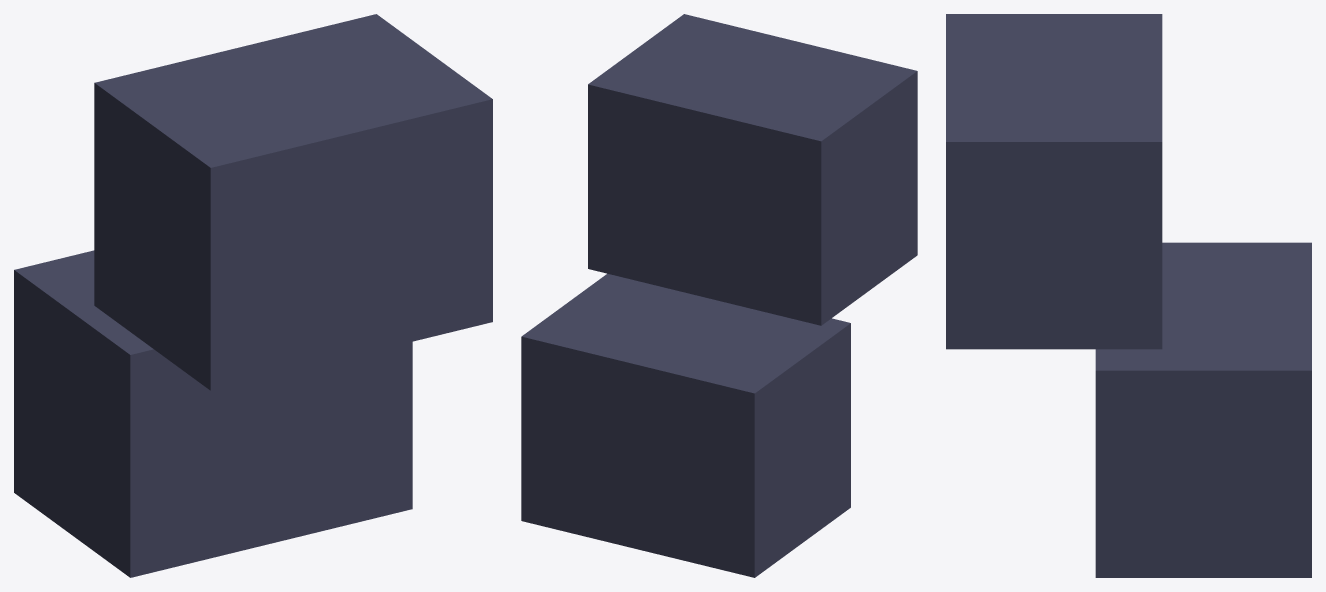
File: Env_Bottom_Windows_02_2.fbx
3 views of the same model, side by side, from view 1: azimuth 30°, elevation 25°; view 2: azimuth 150°, elevation 25°; view 3: azimuth 270°, elevation 25° (orthographic). The views are drawn at different scales.
Visible parts, largest first — view 1: Env_Bottom_Windows_02_2; view 2: Env_Bottom_Windows_02_2; view 3: Env_Bottom_Windows_02_2.
Boxes of the visible parts, x1,y1,x2,y2 form: Env_Bottom_Windows_02_2: (14,14,492,577); Env_Bottom_Windows_02_2: (521,14,917,577); Env_Bottom_Windows_02_2: (946,14,1311,577).
Size of the model in its own units: 0.5818 by 0.924 by 0.7026.
